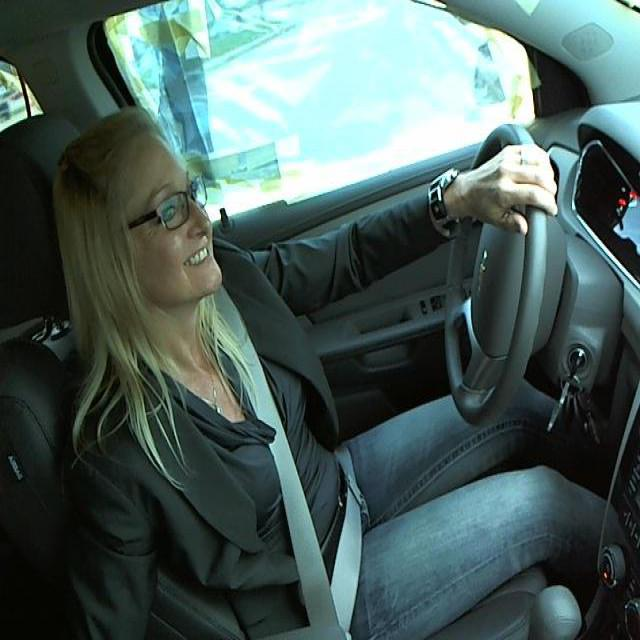seatbelt: (216, 310, 380, 634)
